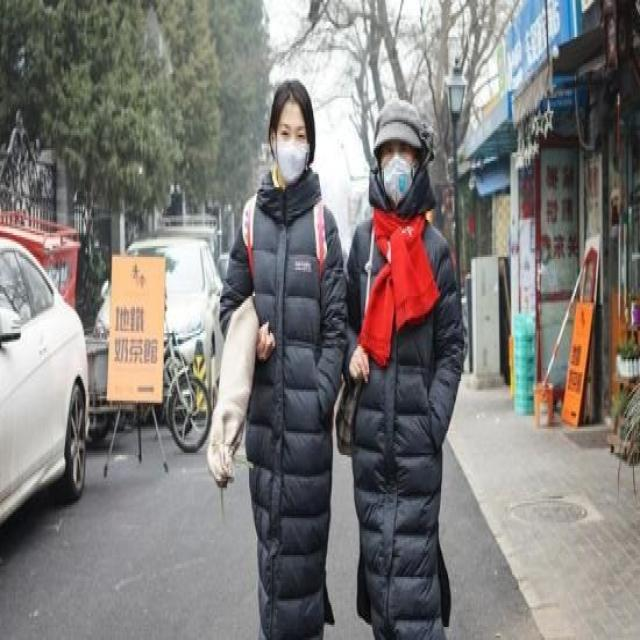mask: (380, 134, 414, 206), (276, 104, 306, 183)
